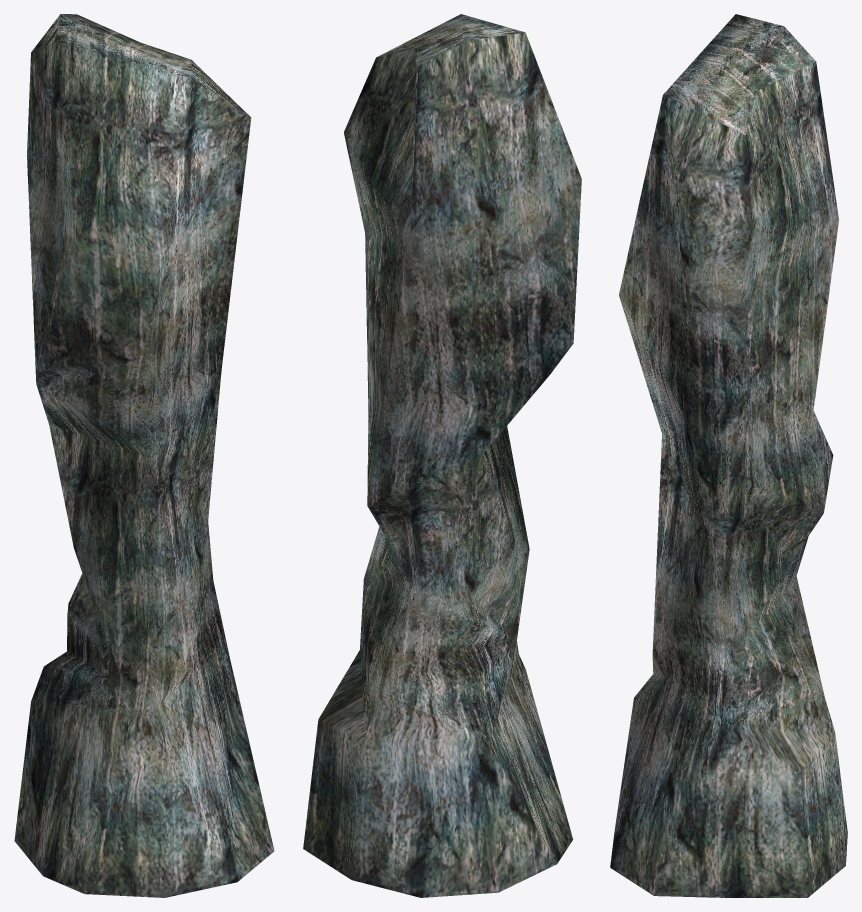
Rendered from rock_dath_desertspire_l3.fbx.
3 views of the same model, side by side, from view 1: azimuth 30°, elevation 25°; view 2: azimuth 150°, elevation 25°; view 3: azimuth 270°, elevation 25° (orthographic). The views are drawn at different scales.
Visible parts, largest first — view 1: mesh_node; view 2: mesh_node; view 3: mesh_node.
Boxes of the visible parts, box(x1,y1,x2,y2) form: mesh_node: box(14, 14, 274, 897); mesh_node: box(303, 14, 581, 897); mesh_node: box(610, 14, 847, 897).
Bounding box in the file's own units: 17.94 × 65.89 × 17.74.
